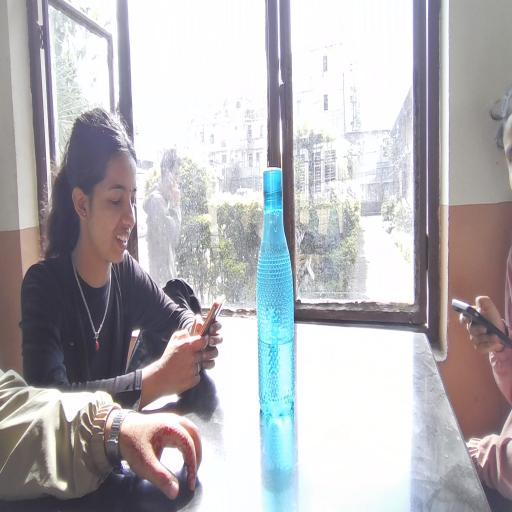Bottle: (254, 164, 312, 473)
